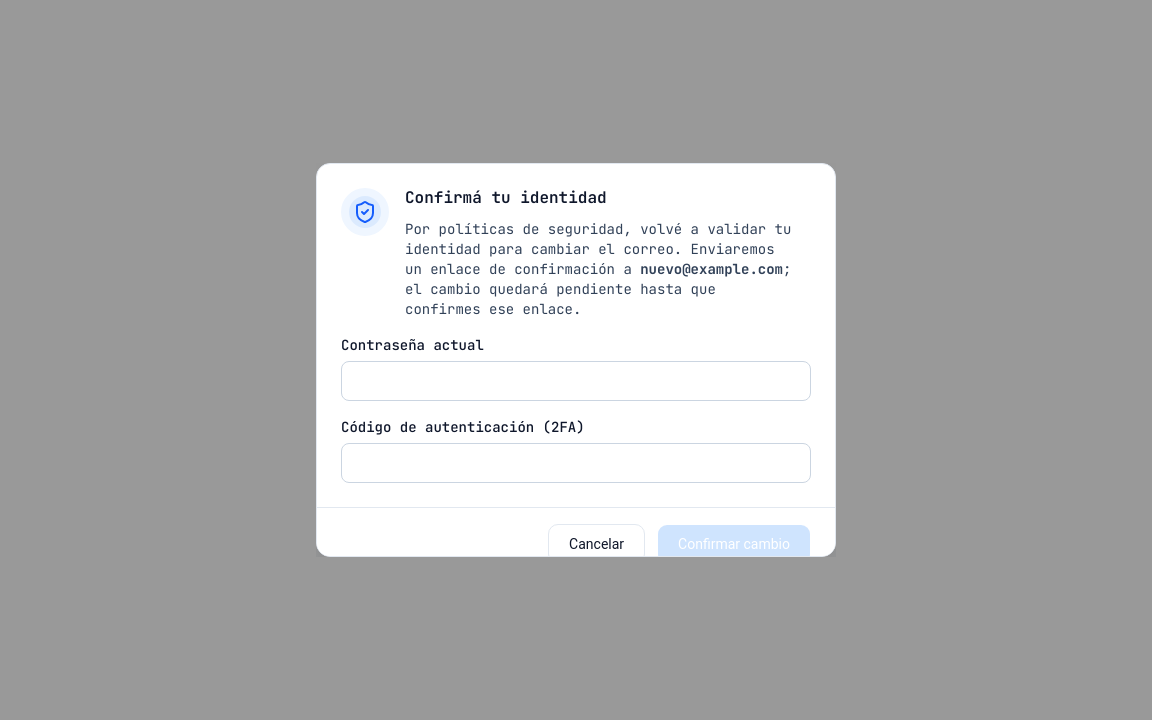
Test: SecurityReauthModal › muestra el error INVALID_OTP_CODE dentro del modal
Type "clave-actual" into the password field labelled "Contraseña actual".
click(576, 381); type("clave-actual")  # box [341, 361, 811, 401]
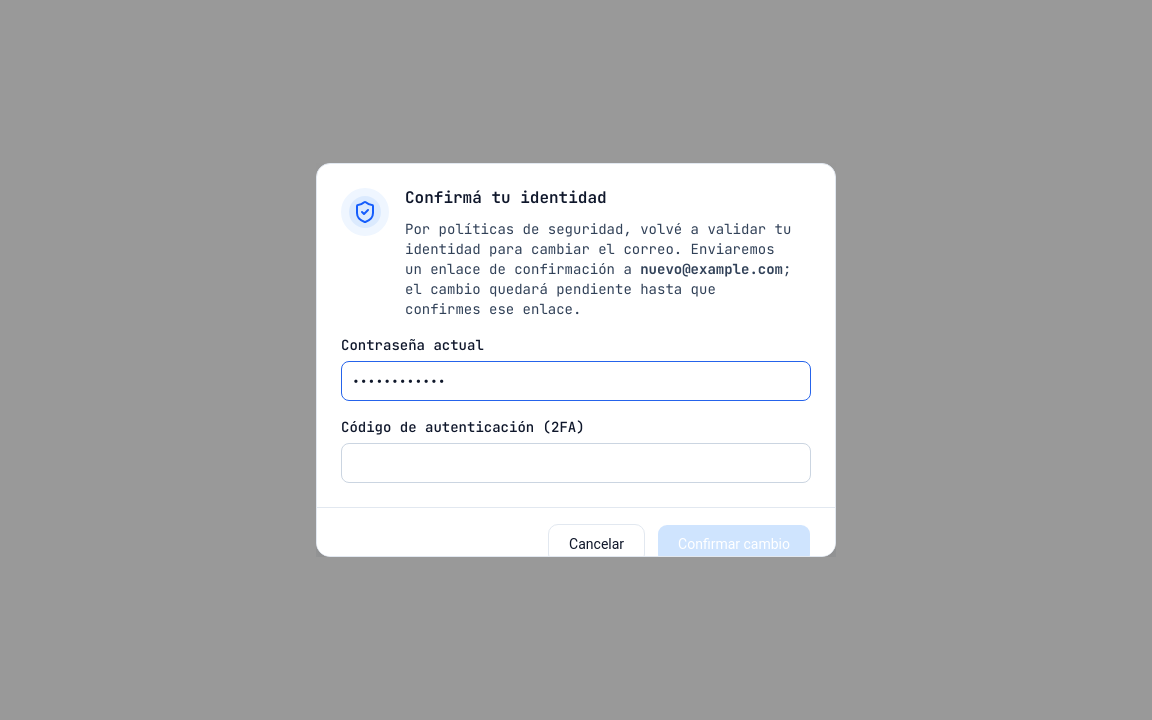
Type "123456" into the field labelled "Código de autenticación (2FA)".
click(576, 463); type("123456")  # box [341, 443, 811, 483]
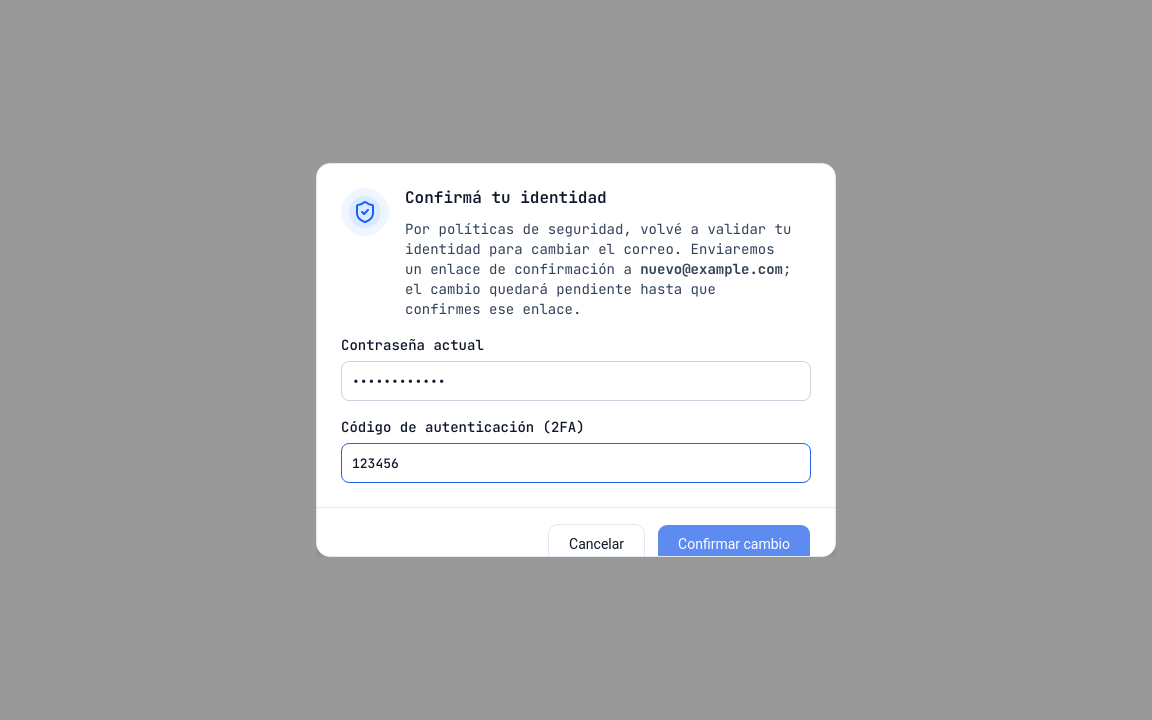
Click the button "Confirmar cambio".
click(734, 544)  # box [657, 524, 811, 564]
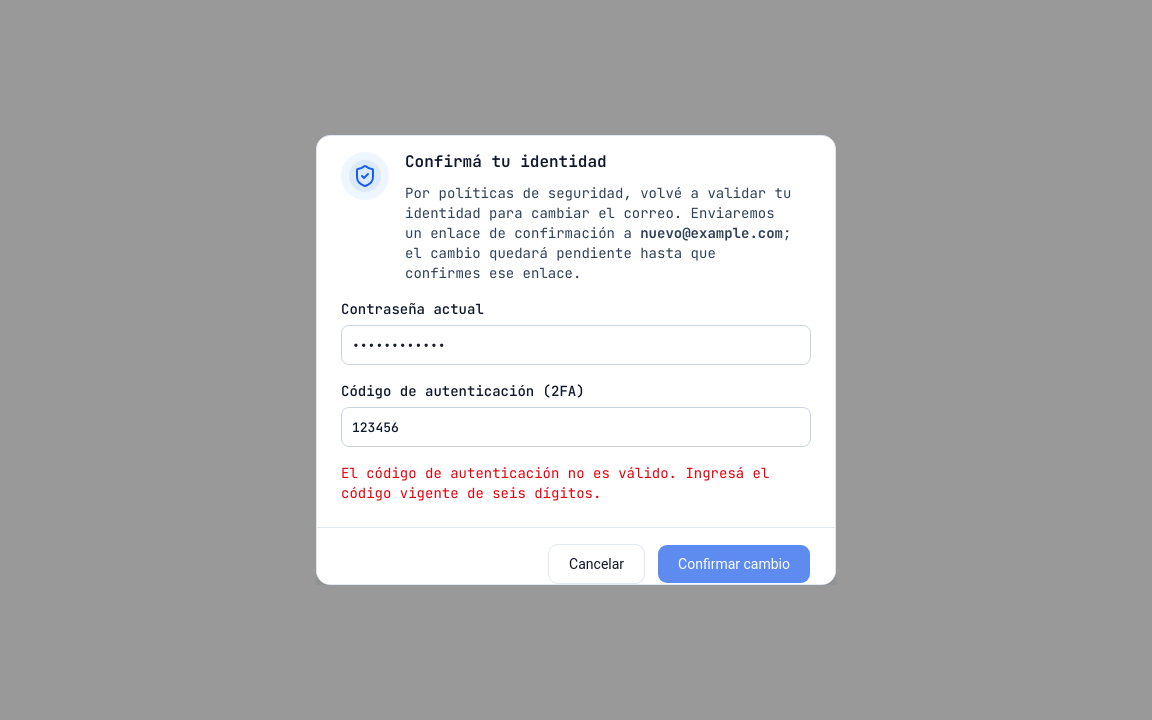
Check: the dialog is shown, box [316, 135, 836, 585]
Check: the message shows "El código de autenticación no es válido.", box [341, 464, 769, 502]
